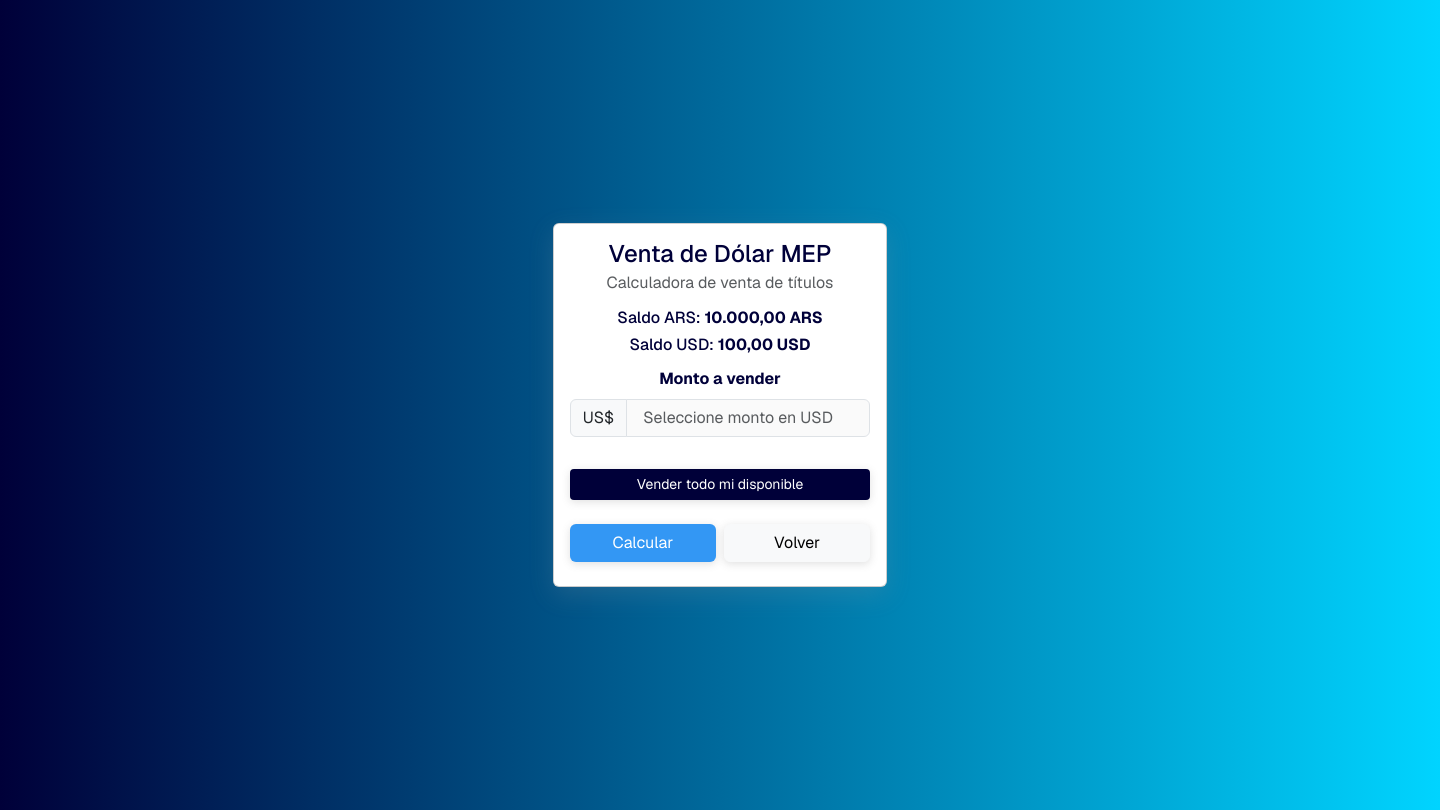
SellCard Component › should show more data, total amount and Sell button on "Sell All available amount" button click
Click the button "Vender todo mi disponible" at (720, 484), box top-left (570, 469), bottom-right (870, 500)
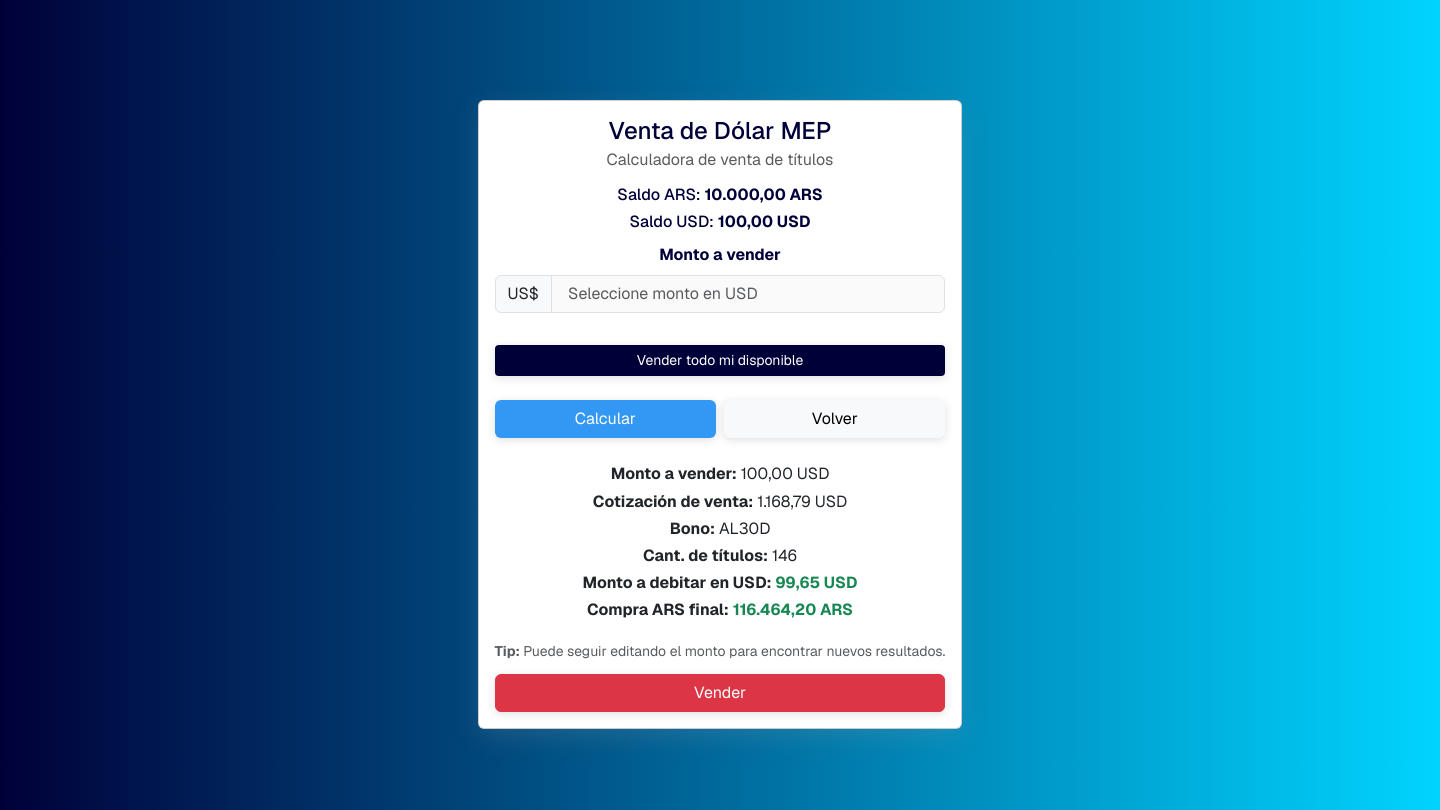
Check: the text "146" is shown, box top-left (772, 545), bottom-right (797, 566)
Check: the button "Vender" is shown, box top-left (495, 674), bottom-right (945, 712)
